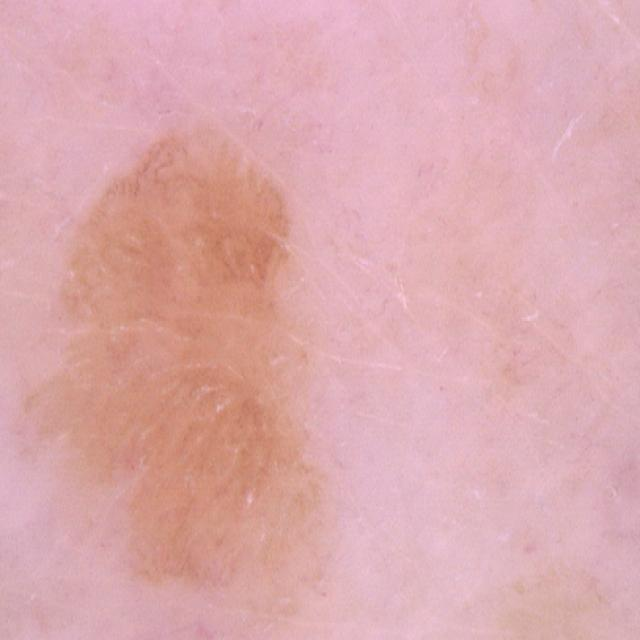Keratosis: (59, 133, 390, 640)
